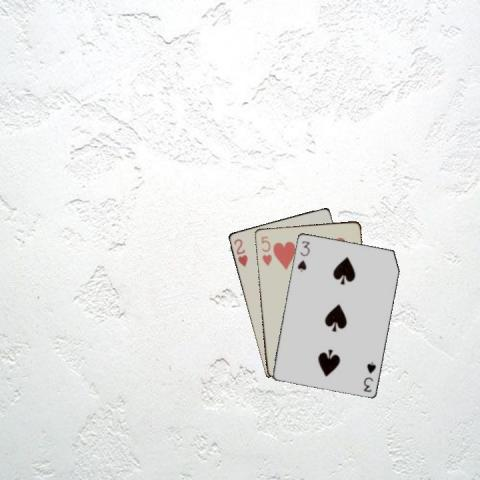2h: (230, 236, 248, 268)
3s: (294, 237, 311, 273), (361, 358, 377, 393)
5h: (258, 233, 273, 268)
